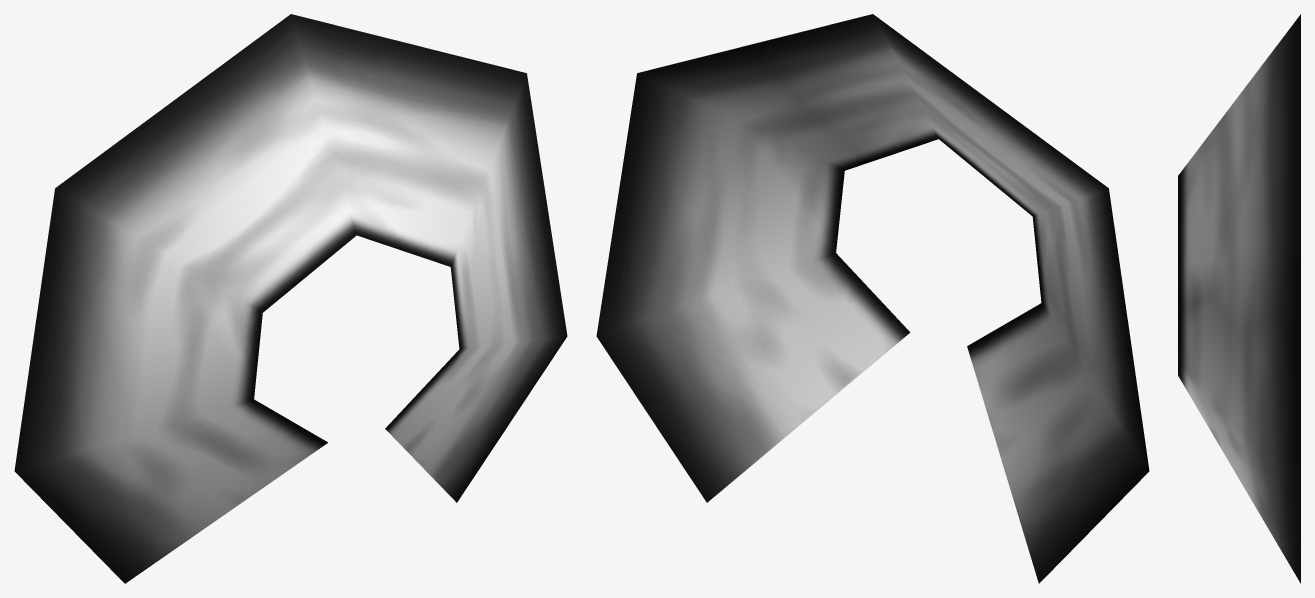
The model's file is 0440_suoerjialeiou_light02.glb.
3 renders of one model, left to right at view 1: azimuth 30°, elevation 25°; view 2: azimuth 150°, elevation 25°; view 3: azimuth 270°, elevation 25°, orthographic. The views are drawn at different scales.
Bounding box in the file's own units: 2.2 × 2.01 × 0.4532.
Materials: 1 (1 with a texture image).
